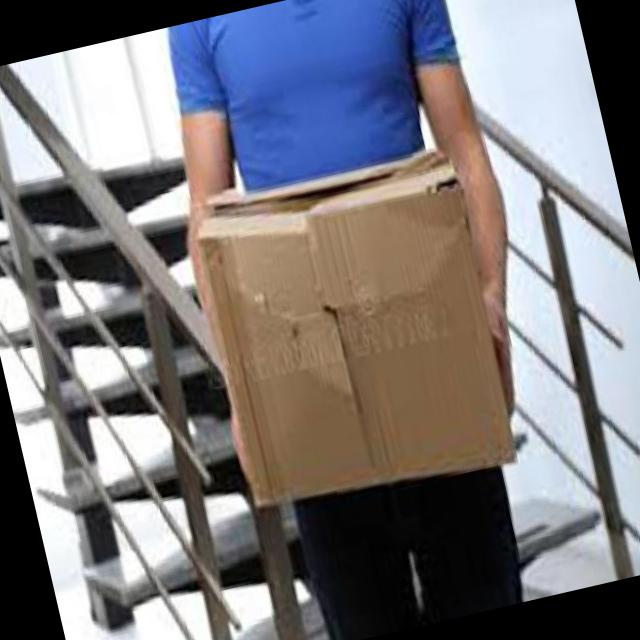box: (201, 145, 520, 507)
crushed: (310, 291, 381, 483), (221, 244, 296, 321)
opened: (208, 147, 466, 225)
